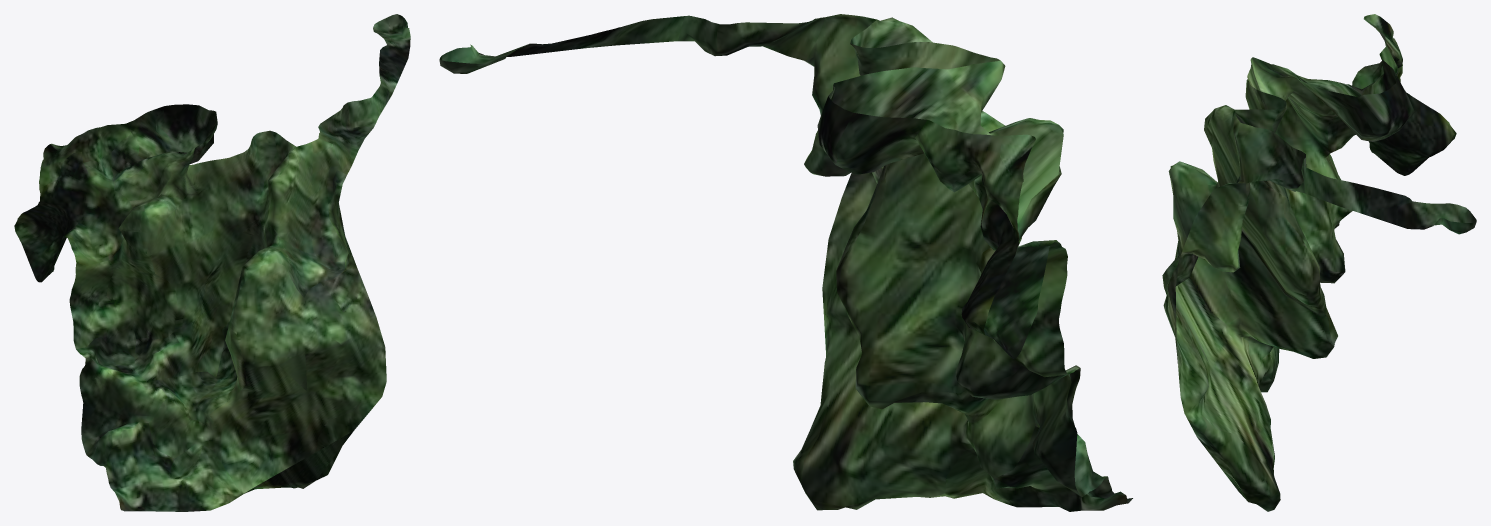
Rendered from Tile_+022_+005.fbx.
The picture shows the model from 3 angles, left to right: view 1: azimuth 30°, elevation 25°; view 2: azimuth 150°, elevation 25°; view 3: azimuth 270°, elevation 25°; orthographic projection. The views are drawn at different scales.
Parts seen in each view (by area): view 1: DefaultName; view 2: DefaultName; view 3: DefaultName.
Boxes of the visible parts, x1=… form: DefaultName: x1=14, y1=14, x2=410, y2=511; DefaultName: x1=439, y1=14, x2=1132, y2=511; DefaultName: x1=1162, y1=14, x2=1476, y2=511.
Size of the model in its own units: 4.96 by 4.28 by 3.15.
